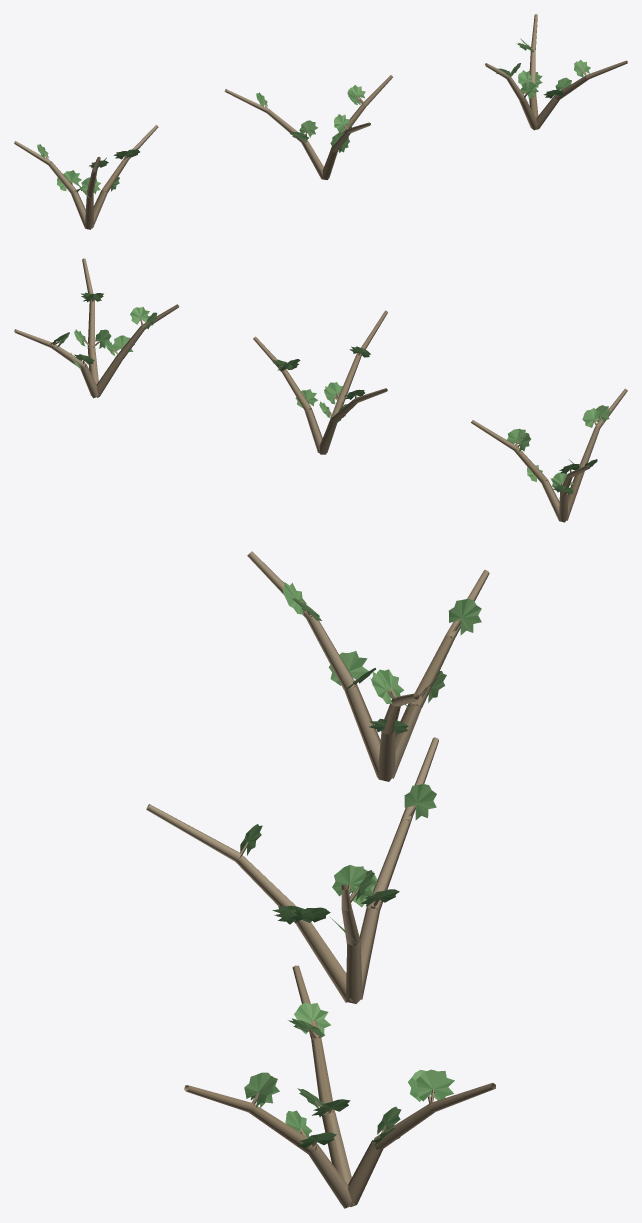
File: groseillier_jeune.glb
3 renders of one model, top to bottom at view 1: azimuth 30°, elevation 25°; view 2: azimuth 150°, elevation 25°; view 3: azimuth 270°, elevation 25°, orthographic. The views are drawn at different scales.
Visible parts, largest first — view 1: Groseillier_Tiges, Groseillier_Feuilles; view 2: Groseillier_Tiges, Groseillier_Feuilles; view 3: Groseillier_Tiges, Groseillier_Feuilles.
Part boxes in pixels (x1,y1,x2,y2): Groseillier_Tiges: [14, 14, 627, 229]; Groseillier_Feuilles: [37, 38, 590, 197]; Groseillier_Tiges: [14, 258, 627, 522]; Groseillier_Feuilles: [50, 292, 611, 494]; Groseillier_Tiges: [146, 551, 495, 1208]; Groseillier_Feuilles: [240, 582, 481, 1149].
Bounding box in the file's own units: 1.74 × 0.3156 × 0.4882.
